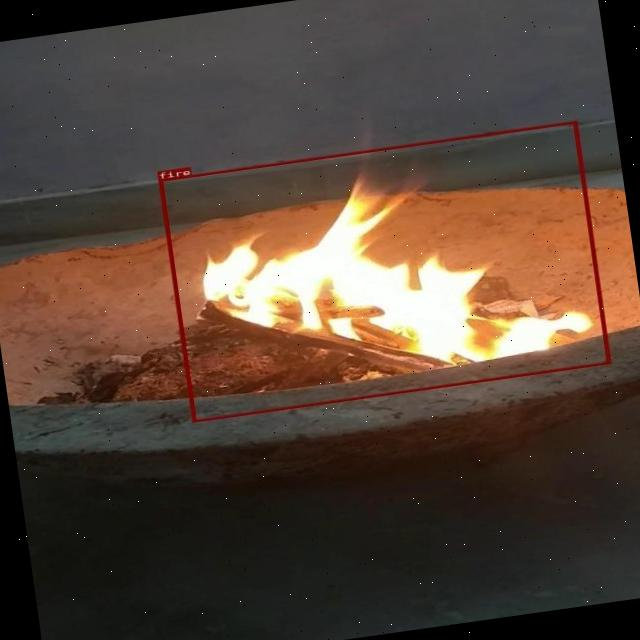fire: (158, 121, 610, 422)
